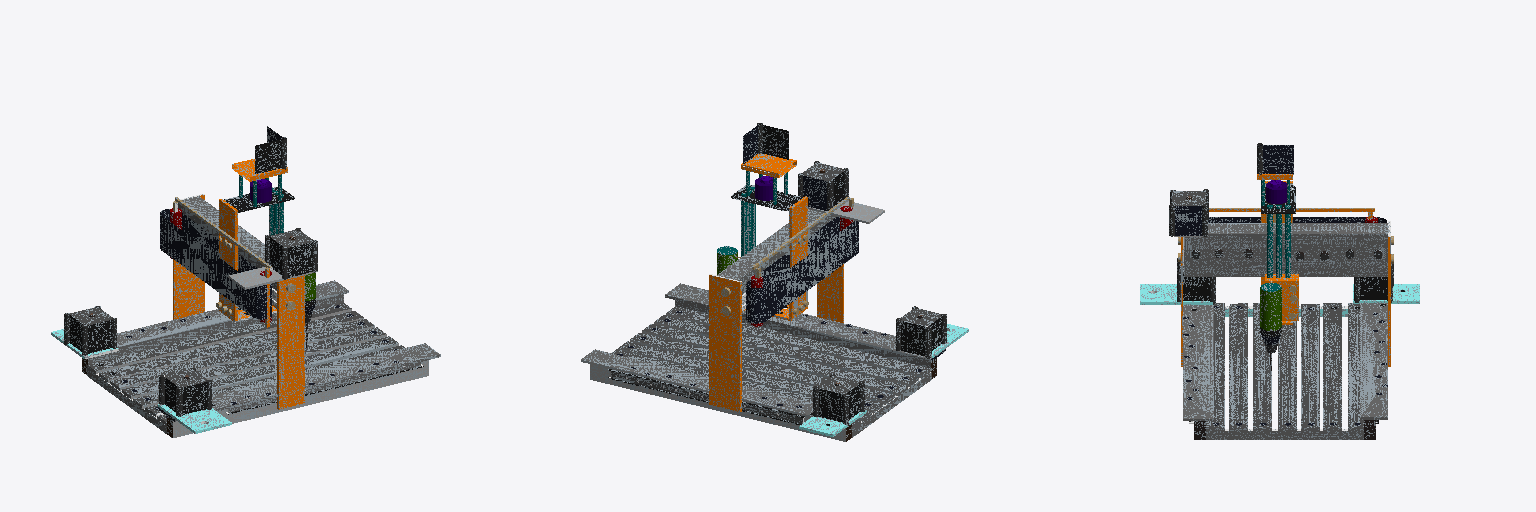
The model's file is maquina_003.obj.
The picture shows the model from 3 angles: view 1: azimuth 30°, elevation 25°; view 2: azimuth 150°, elevation 25°; view 3: azimuth 270°, elevation 25°; orthographic projection.
Visible parts, largest first — view 1: Mesh4 Group1 Model, Mesh11 Group1 Model, Mesh6 Group1 Model, Mesh5 Group1 Model, Mesh7 Group1 Model, Mesh24 Group1 Model, Mesh18 Group1 Model, Mesh22 Group1 Model, Mesh13 Group1 Model, Mesh10 Group1 Model, Mesh14 Group1 Model, Mesh1 Group1 Model (+5 smaller); view 2: Mesh4 Group1 Model, Mesh7 Group1 Model, Mesh11 Group1 Model, Mesh5 Group1 Model, Mesh22 Group1 Model, Mesh18 Group1 Model, Mesh24 Group1 Model, Mesh13 Group1 Model, Mesh2 Group1 Model, Mesh6 Group1 Model, Mesh31 Group1 Model, Mesh14 Group1 Model (+7 smaller); view 3: Mesh4 Group1 Model, Mesh7 Group1 Model, Mesh5 Group1 Model, Mesh15 Group1 Model, Mesh24 Group1 Model, Mesh16 Group1 Model, Mesh10 Group1 Model, Mesh31 Group1 Model, Mesh14 Group1 Model, Mesh11 Group1 Model, Mesh22 Group1 Model, Mesh18 Group1 Model (+2 smaller).
Boxes of the visible parts, x1=… form: Mesh4 Group1 Model: x1=82, y1=280, x2=428, y2=437; Mesh11 Group1 Model: x1=161, y1=213, x2=271, y2=327; Mesh6 Group1 Model: x1=277, y1=275, x2=304, y2=409; Mesh5 Group1 Model: x1=159, y1=343, x2=440, y2=421; Mesh7 Group1 Model: x1=173, y1=194, x2=276, y2=319; Mesh24 Group1 Model: x1=265, y1=230, x2=312, y2=279; Mesh18 Group1 Model: x1=64, y1=307, x2=112, y2=355; Mesh22 Group1 Model: x1=159, y1=369, x2=206, y2=416; Mesh13 Group1 Model: x1=216, y1=199, x2=237, y2=321; Mesh10 Group1 Model: x1=158, y1=368, x2=231, y2=433; Mesh14 Group1 Model: x1=224, y1=179, x2=294, y2=212; Mesh1 Group1 Model: x1=225, y1=362, x2=423, y2=414; Mesh4 Group1 Model: x1=581, y1=300, x2=936, y2=441; Mesh7 Group1 Model: x1=709, y1=209, x2=836, y2=411; Mesh11 Group1 Model: x1=747, y1=198, x2=858, y2=321; Mesh5 Group1 Model: x1=665, y1=283, x2=945, y2=361; Mesh22 Group1 Model: x1=900, y1=308, x2=946, y2=358; Mesh18 Group1 Model: x1=818, y1=376, x2=864, y2=425; Mesh24 Group1 Model: x1=803, y1=163, x2=848, y2=210; Mesh13 Group1 Model: x1=789, y1=196, x2=808, y2=319; Mesh2 Group1 Model: x1=608, y1=371, x2=803, y2=424; Mesh6 Group1 Model: x1=817, y1=264, x2=843, y2=322; Mesh31 Group1 Model: x1=743, y1=124, x2=788, y2=172; Mesh14 Group1 Model: x1=731, y1=176, x2=802, y2=210; Mesh4 Group1 Model: x1=1194, y1=303, x2=1387, y2=439; Mesh7 Group1 Model: x1=1184, y1=221, x2=1393, y2=366; Mesh5 Group1 Model: x1=1183, y1=305, x2=1213, y2=420; Mesh15 Group1 Model: x1=1260, y1=274, x2=1298, y2=352; Mesh24 Group1 Model: x1=1170, y1=189, x2=1208, y2=235; Mesh16 Group1 Model: x1=1267, y1=205, x2=1292, y2=324; Mesh10 Group1 Model: x1=1140, y1=277, x2=1215, y2=304; Mesh31 Group1 Model: x1=1260, y1=145, x2=1293, y2=174; Mesh14 Group1 Model: x1=1261, y1=180, x2=1295, y2=213; Mesh11 Group1 Model: x1=1183, y1=217, x2=1377, y2=265; Mesh22 Group1 Model: x1=1177, y1=258, x2=1209, y2=300; Mesh18 Group1 Model: x1=1360, y1=264, x2=1393, y2=299.
Size of the model in its own units: 1.2 by 1.01 by 1.07.